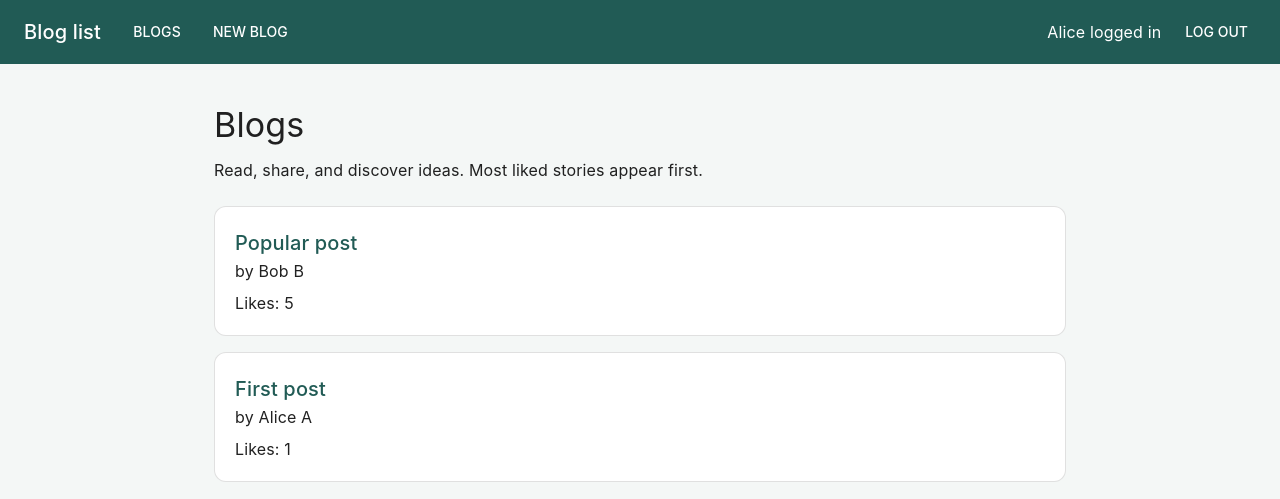
Test: Blog list › shows delete only for the creator and confirms before deleting
The width and height of the screenshot is (1280, 499).
Click the link "Popular post" at (296, 243), box [235,231,358,255]
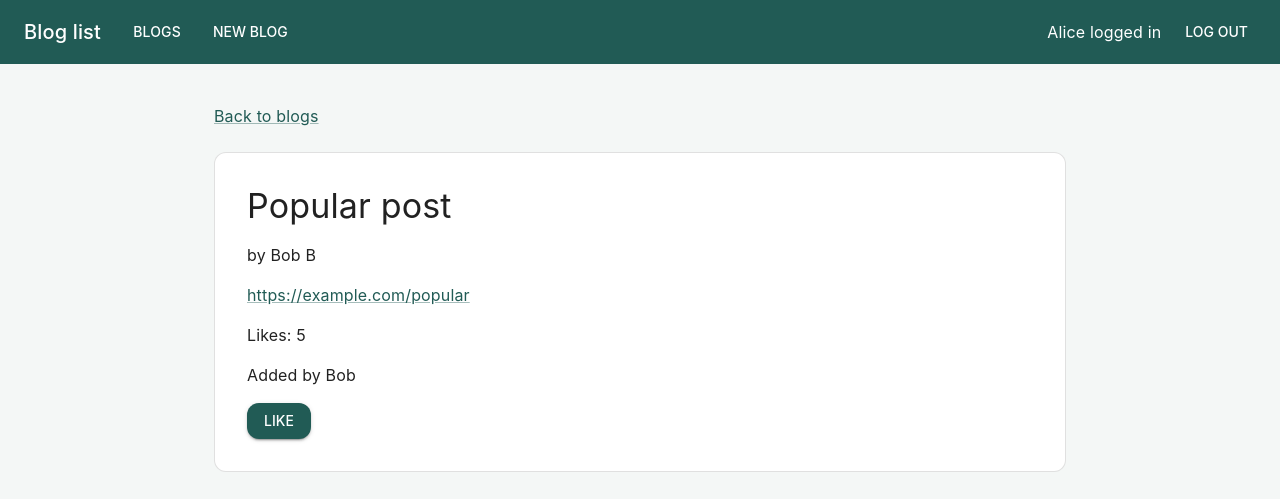
Expected: the button "Delete" is not shown
Click the link "Blogs" at (157, 31), box [133,23,181,40]
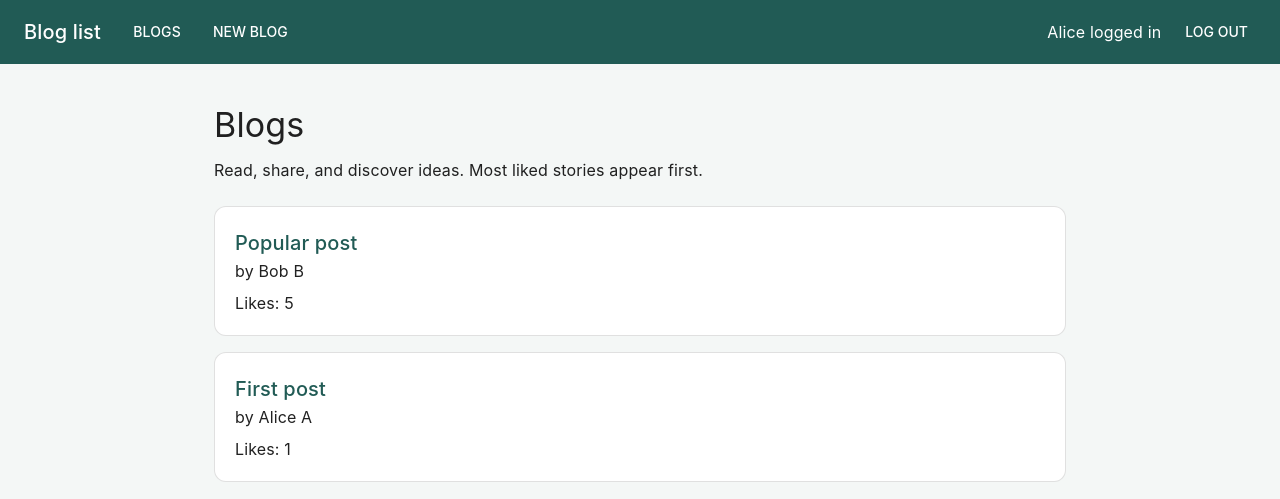
Click the link "First post" at (280, 389), box [235,377,326,401]
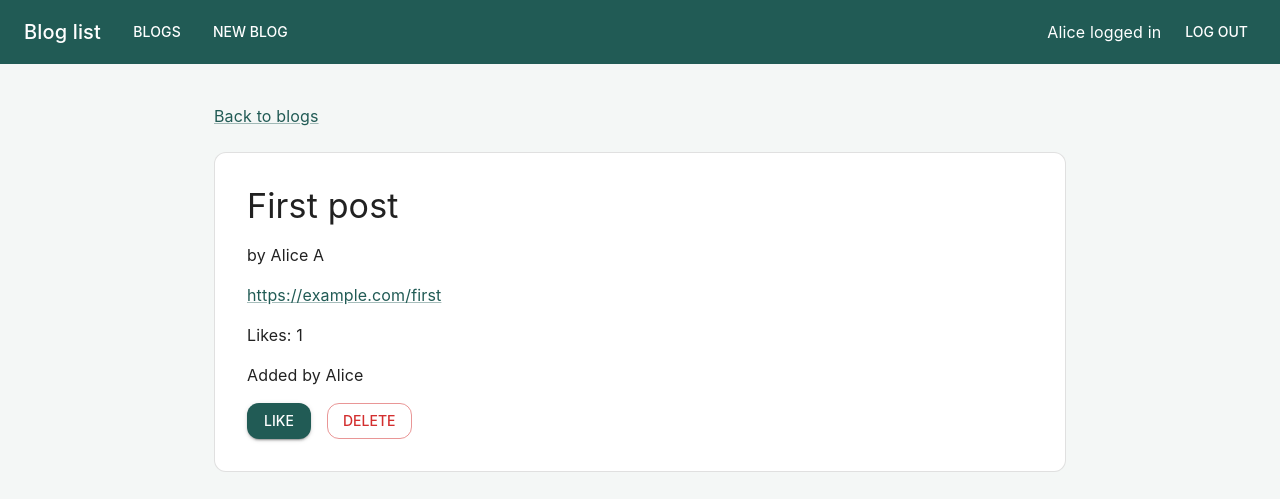
Click the button "Delete" at (369, 421), box [327,403,412,440]
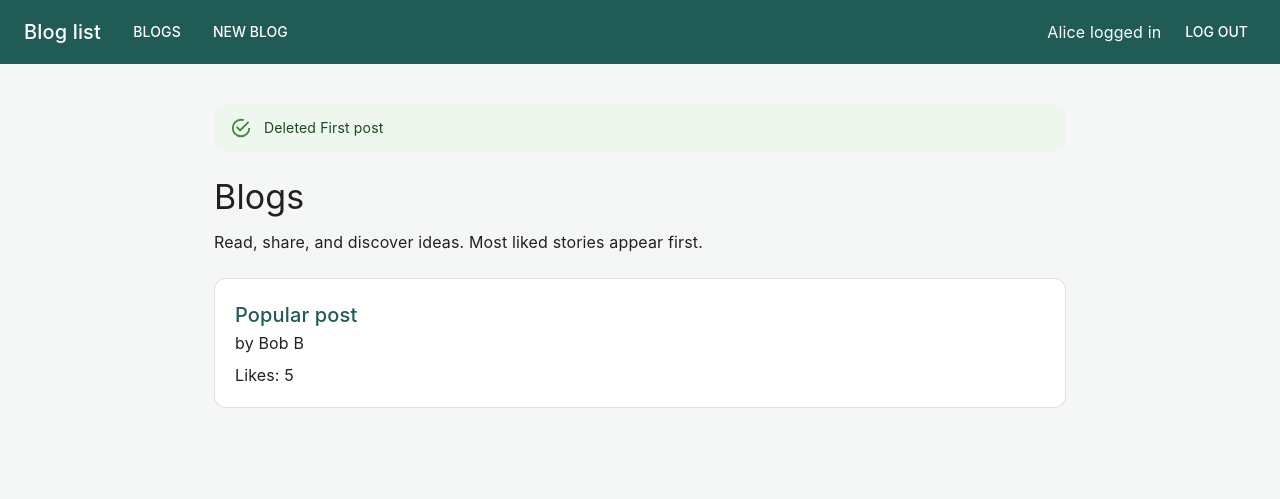
Expected: the element showing "Popular post by Bob B Likes: 5" is shown, [214,278,1066,408]
